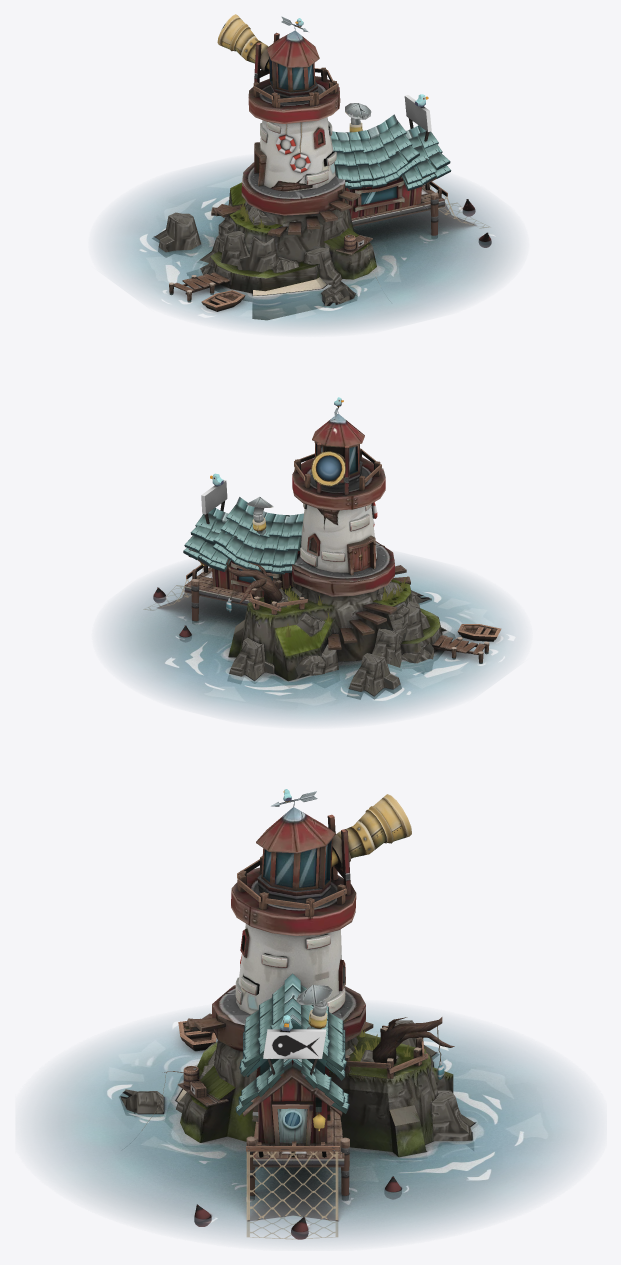
The model's file is the_lighthouse.glb.
3 views of the same model, one above another, from view 1: azimuth 30°, elevation 25°; view 2: azimuth 150°, elevation 25°; view 3: azimuth 270°, elevation 25° (orthographic). The views are drawn at different scales.
Visible parts, largest first — view 1: Plane001, Cylinder001, Box091, Box003, Cylinder010, Box025, Box063, Box030, Box066, Box062, Box006, Box004 (+1 smaller); view 2: Plane001, Cylinder001, Box091, Box003, Box025, Box054, Cylinder010, Cylinder027, Box060, Box030, Box004, Box035 (+5 smaller); view 3: Plane001, Cylinder001, Box003, Box091, Cylinder010, Plane002, Box004, Box054, Cylinder027, Box006, Box043, Cylinder006 (+2 smaller).
Part boxes in pixels (x1=…): Plane001: x1=99, y1=158, x2=518, y2=332; Cylinder001: x1=208, y1=30, x2=376, y2=320; Box091: x1=331, y1=120, x2=451, y2=190; Box003: x1=331, y1=103, x2=445, y2=226; Cylinder010: x1=217, y1=14, x2=269, y2=71; Box025: x1=152, y1=212, x2=200, y2=257; Box063: x1=237, y1=236, x2=277, y2=272; Box030: x1=169, y1=272, x2=230, y2=302; Box066: x1=304, y1=247, x2=341, y2=285; Box062: x1=221, y1=231, x2=248, y2=266; Box006: x1=321, y1=280, x2=357, y2=308; Box004: x1=404, y1=95, x2=431, y2=141; Plane001: x1=102, y1=554, x2=522, y2=724; Cylinder001: x1=229, y1=413, x2=455, y2=681; Box091: x1=183, y1=505, x2=302, y2=574; Box003: x1=184, y1=497, x2=303, y2=605; Box025: x1=347, y1=653, x2=401, y2=699; Box054: x1=228, y1=637, x2=274, y2=683; Cylinder010: x1=311, y1=451, x2=346, y2=486; Cylinder027: x1=228, y1=562, x2=282, y2=603; Box060: x1=372, y1=628, x2=401, y2=667; Box030: x1=432, y1=635, x2=489, y2=663; Box004: x1=201, y1=479, x2=227, y2=524; Box035: x1=457, y1=624, x2=501, y2=641; Plane001: x1=23, y1=1005, x2=596, y2=1245; Cylinder001: x1=176, y1=807, x2=453, y2=1156; Box003: x1=242, y1=973, x2=344, y2=1167; Box091: x1=235, y1=984, x2=349, y2=1115; Cylinder010: x1=331, y1=794, x2=411, y2=867; Plane002: x1=246, y1=1151, x2=338, y2=1239; Box004: x1=263, y1=1029, x2=326, y2=1075; Box054: x1=431, y1=1090, x2=474, y2=1149; Cylinder027: x1=372, y1=1017, x2=454, y2=1064; Box006: x1=119, y1=1089, x2=163, y2=1116; Box043: x1=344, y1=1025, x2=428, y2=1078; Cylinder006: x1=246, y1=1136, x2=349, y2=1200.
Size of the model in its own units: 800 by 520 by 800.
34 materials, 33 textured.
